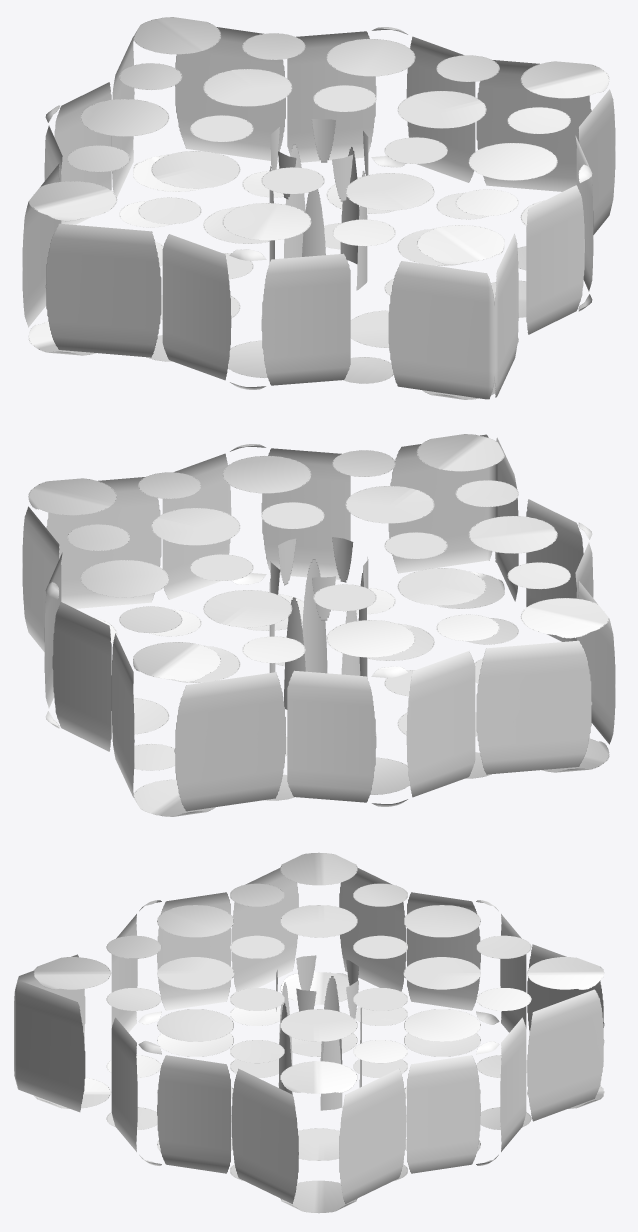
3 views of the same model, one above another, from view 1: azimuth 30°, elevation 25°; view 2: azimuth 150°, elevation 25°; view 3: azimuth 270°, elevation 25° (orthographic). The views are drawn at different scales.
Visible parts, largest first — view 1: Chakra.011; view 2: Chakra.011; view 3: Chakra.011.
Part boxes in pixels (bbox=[...]): Chakra.011: bbox=[22, 17, 615, 399]; Chakra.011: bbox=[22, 434, 615, 816]; Chakra.011: bbox=[14, 852, 604, 1213].
Size of the model in its own units: 332 by 71.66 by 332.
